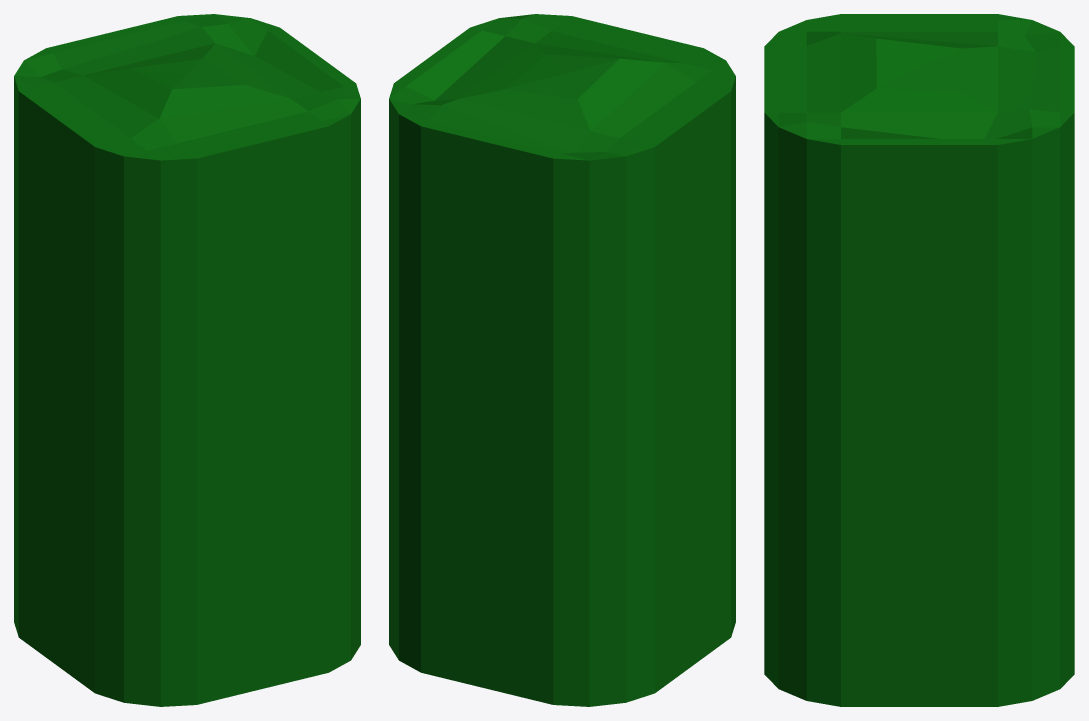
Rendered from Bush02.fbx.
3 views of the same model, side by side, from view 1: azimuth 30°, elevation 25°; view 2: azimuth 150°, elevation 25°; view 3: azimuth 270°, elevation 25° (orthographic). The views are drawn at different scales.
Parts seen in each view (by area): view 1: Bush02; view 2: Bush02; view 3: Bush02.
Boxes of the visible parts, left/top/right/bottom form: Bush02: left=14, top=14, right=360, bottom=706; Bush02: left=389, top=14, right=735, bottom=706; Bush02: left=764, top=14, right=1074, bottom=706.
Bounding box in the file's own units: 100 × 208 × 100.
